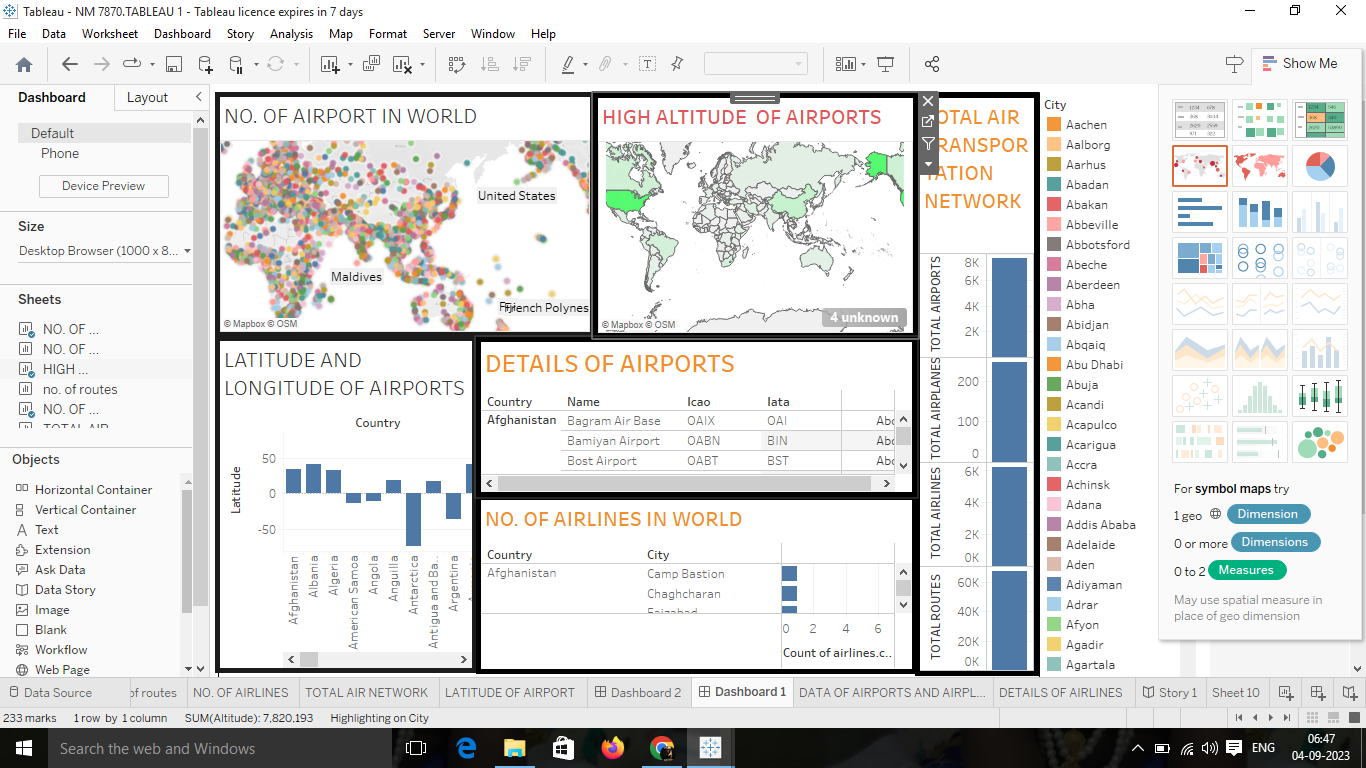

The dashboard page shown, as its layout file describes it:
{"tool":"tableau","page":{"name":"Dashboard 1","canvas":[1000,800],"ordinal":0},"visuals":[{"type":"worksheet","title":"NO. OF AIRPORT IN WORLD","mark":"Automatic","box":[5,8,380,245]},{"type":"legend","title":"NO. OF AIRPORT IN WORLD","param":"[federated.0l848np1d6z9qr192i1x81ur9gen].[none:City:nk]","box":[830,8,162,697]},{"type":"worksheet","title":"HIGH ALTITUDE OF AIRPORTS","mark":"Automatic","box":[383,9,325,245]},{"type":"worksheet","title":"TOTAL AIR NETWORK","mark":"Automatic","rows":["airports.csv_4D7D98AADE4047E8A649BBDB6E520474","airplanes.csv_F48A813B41194C96979EF699A95FBB35","airlines.csv_03FC6233C58E4466AB0F103725B15CB6","routes.csv_581EBB81590E4DCA883B61A6C018495C"],"box":[705,9,124,583]},{"type":"worksheet","title":"LATITUDE OF AIRPORT","mark":"Automatic","rows":["Latitude"],"cols":["Country"],"box":[5,252,262,337]},{"type":"worksheet","title":"DATA OF AIRPORTS AND AIRPLANES","mark":"Automatic","rows":["Country","Name","ICAO","IATA"],"box":[266,253,441,160]},{"type":"worksheet","title":"NO. OF AIRLINES","mark":"Automatic","rows":["Country","City"],"cols":["airlines.csv_03FC6233C58E4466AB0F103725B15CB6"],"box":[266,411,441,179]},{"type":"legend","title":"HIGH ALTITUDE OF AIRPORTS","param":"[federated.0l848np1d6z9qr192i1x81ur9gen].[sum:Altitude:qk]","box":[830,705,162,65]},{"type":"legend","title":"NO. OF AIRLINES","param":"[federated.0l848np1d6z9qr192i1x81ur9gen].[__tableau_internal_object_id__].[cnt:a","box":[830,770,162,22]}]}

Visuals, with their boxes on the page's 1000x800 design canvas (x1, y1, x2, y2). These are canvas units, not pixel positions in the 1366x768 screenshot, which may show the page scaled, cropped or inside an application window:
"NO. OF AIRPORT IN WORLD" worksheet: 5,8,385,253
"NO. OF AIRPORT IN WORLD" legend: 830,8,992,705
"HIGH ALTITUDE OF AIRPORTS" worksheet: 383,9,708,254
"TOTAL AIR NETWORK" worksheet: 705,9,829,592
"LATITUDE OF AIRPORT" worksheet: 5,252,267,589
"DATA OF AIRPORTS AND AIRPLANES" worksheet: 266,253,707,413
"NO. OF AIRLINES" worksheet: 266,411,707,590
"HIGH ALTITUDE OF AIRPORTS" legend: 830,705,992,770
"NO. OF AIRLINES" legend: 830,770,992,792
